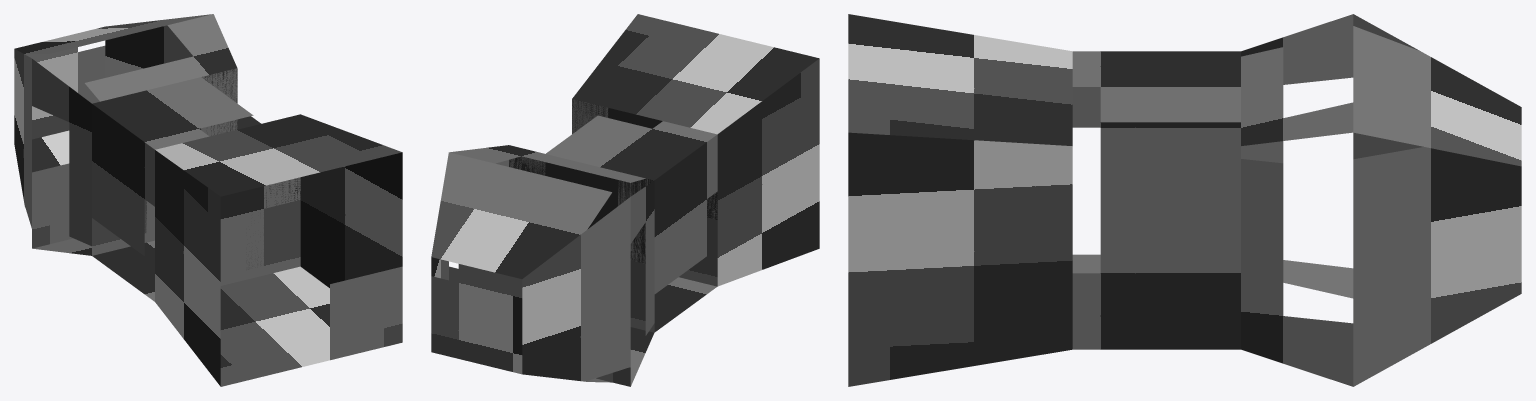
Rendered from turbofan_f145.obj.
3 views of the same model, side by side, from view 1: azimuth 30°, elevation 25°; view 2: azimuth 150°, elevation 25°; view 3: azimuth 270°, elevation 25° (orthographic). The views are drawn at different scales.
Visible parts, largest first — view 1: cuboid1, cube, cuboid2, cuboid; view 2: cuboid, cuboid1, cube, cuboid2; view 3: cuboid1, cuboid, cube, cuboid2.
Part boxes in pixels (x1,y1,x2,y2): cuboid1: [155, 114, 402, 386]; cube: [92, 69, 300, 301]; cuboid2: [32, 14, 237, 255]; cuboid: [14, 14, 212, 228]; cuboid: [431, 152, 630, 382]; cuboid1: [572, 14, 819, 286]; cube: [509, 99, 717, 332]; cuboid2: [450, 145, 654, 386]; cuboid1: [848, 14, 1072, 386]; cuboid: [1353, 14, 1521, 386]; cube: [1072, 51, 1240, 349]; cuboid2: [1241, 14, 1353, 386].
Size of the model in its own units: 1.25 by 1.25 by 3.
